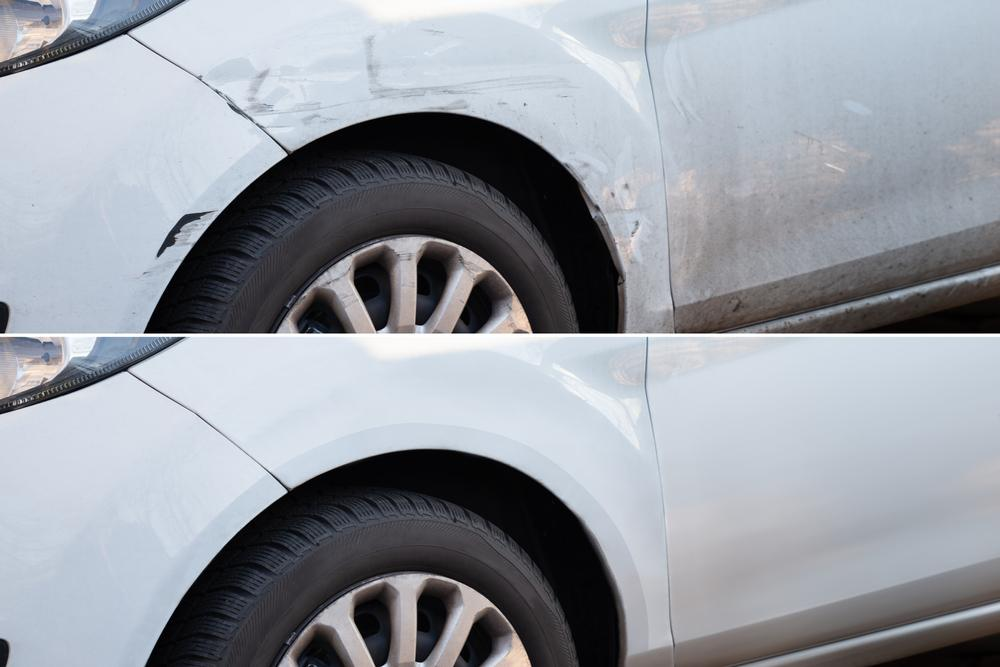scratch: (228, 30, 595, 134), (148, 205, 213, 259)
